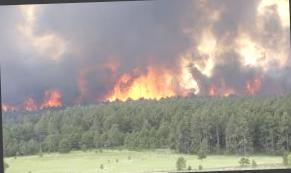fire: (93, 68, 184, 104), (0, 89, 67, 112), (208, 76, 262, 104)
smoke: (0, 0, 291, 99)
